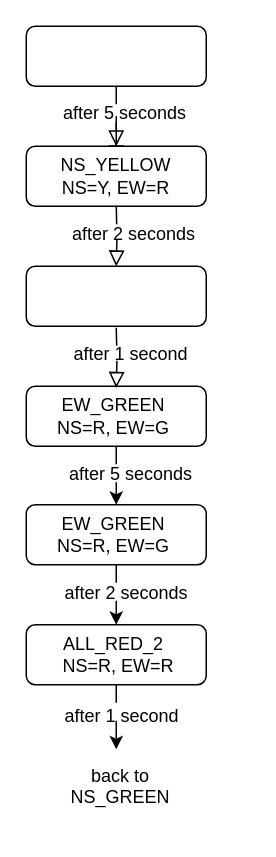
This 276x857 diagram has some shape labels left out. Here are the shapes that lost their labels. From the top down, the centre of each, then its label:
the point at 115,55: NS_GREEN NS=G, EW=R
the point at 115,295: ALL_RED_1 NS=R, EW=R
